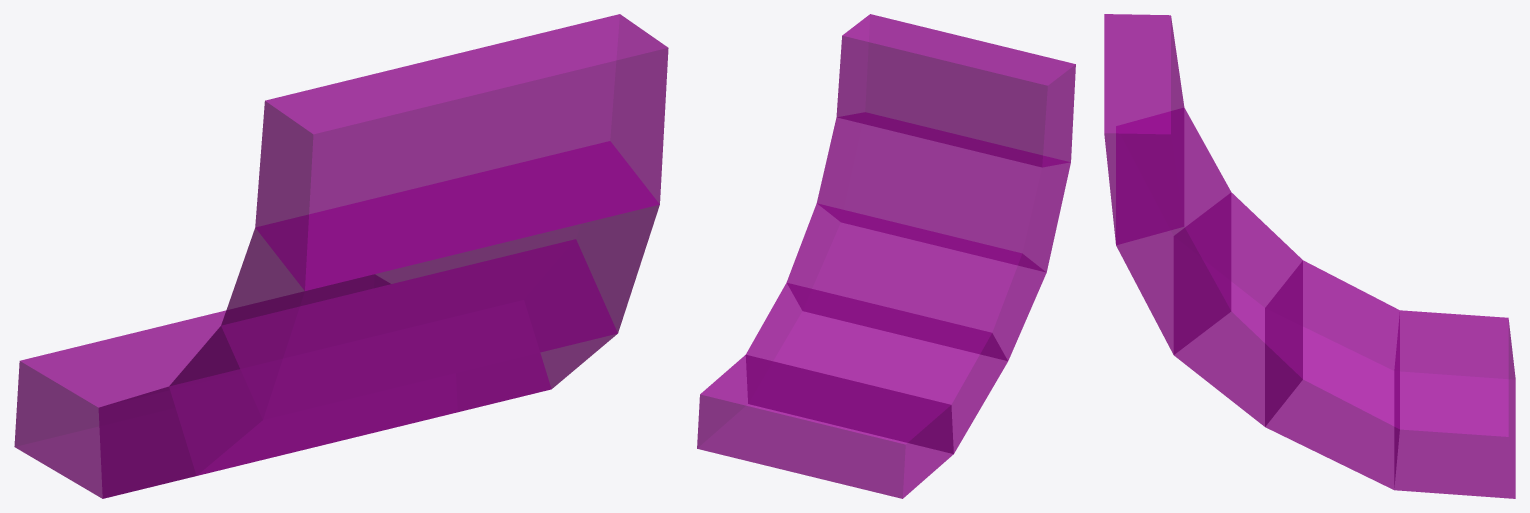
File: SM_Prop_Pipe_Bend_08_Collision.fbx
3 renders of one model, left to right at view 1: azimuth 30°, elevation 25°; view 2: azimuth 150°, elevation 25°; view 3: azimuth 270°, elevation 25°, orthographic. The views are drawn at different scales.
Visible parts, largest first — view 1: SM_Prop_Pipe_Bend_08_Collision; view 2: SM_Prop_Pipe_Bend_08_Collision; view 3: SM_Prop_Pipe_Bend_08_Collision.
Part boxes in pixels (left/top/right/bottom): SM_Prop_Pipe_Bend_08_Collision: left=14, top=14, right=668, bottom=498; SM_Prop_Pipe_Bend_08_Collision: left=697, top=14, right=1075, bottom=498; SM_Prop_Pipe_Bend_08_Collision: left=1104, top=14, right=1515, bottom=498.
Size of the model in its own units: 95.5 by 137 by 139.
